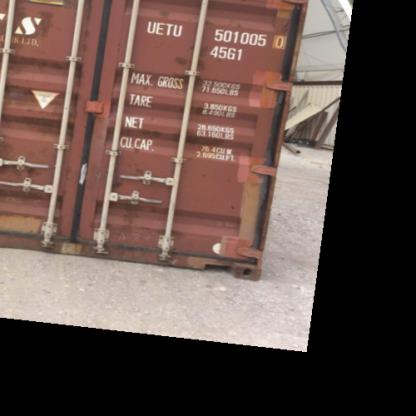Damage: (16, 92, 65, 135), (11, 54, 81, 80), (16, 3, 64, 38), (146, 100, 211, 125), (115, 197, 147, 245), (160, 130, 206, 160)
